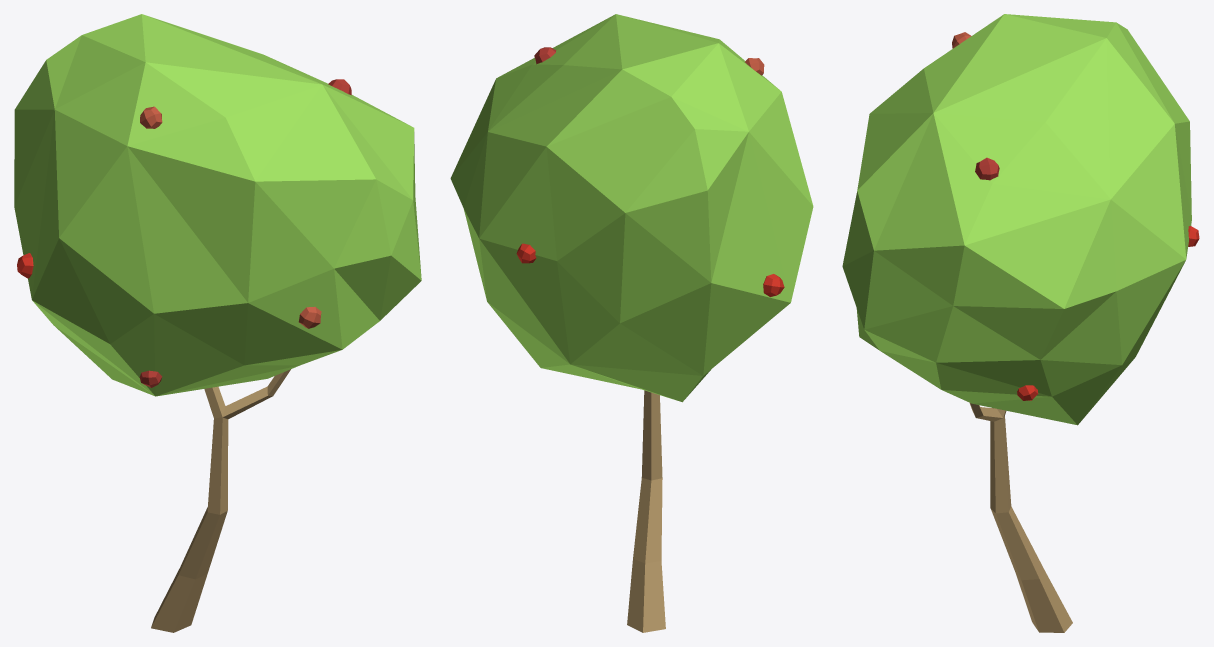
The model's file is Apple_Tree_Apples_m_04_LOD.fbx.
The picture shows the model from 3 angles, left to right: view 1: azimuth 30°, elevation 25°; view 2: azimuth 150°, elevation 25°; view 3: azimuth 270°, elevation 25°; orthographic projection. The views are drawn at different scales.
Parts seen in each view (by area): view 1: Apple_Tree_Apples_m_04_LOD0; view 2: Apple_Tree_Apples_m_04_LOD0; view 3: Apple_Tree_Apples_m_04_LOD0.
Boxes of the visible parts, x1,y1,x2,y2 form: Apple_Tree_Apples_m_04_LOD0: (14, 14, 421, 632); Apple_Tree_Apples_m_04_LOD0: (450, 14, 813, 632); Apple_Tree_Apples_m_04_LOD0: (842, 14, 1199, 632).
Size of what is drawn, in the model's own units: 527 by 864 by 476.
